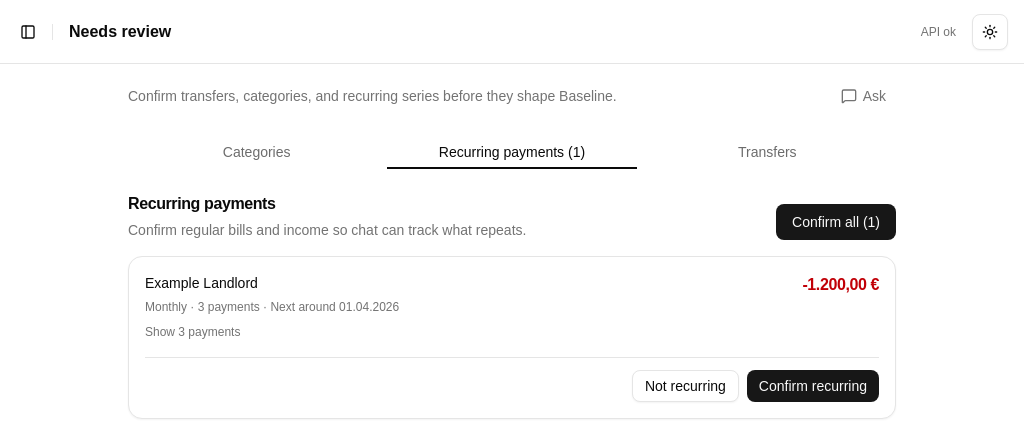
Test: Needs review inbox › confirms a recurring series and clears it from the queue
expect the heading "Recurring payments" is shown: met, box 128,195 -> 276,212
expect the button "Confirm all (1)" is shown: met, box 776,204 -> 896,240
Step 1. Click the button "Confirm recurring" → coordinates (813, 386), box 747,370 -> 879,402
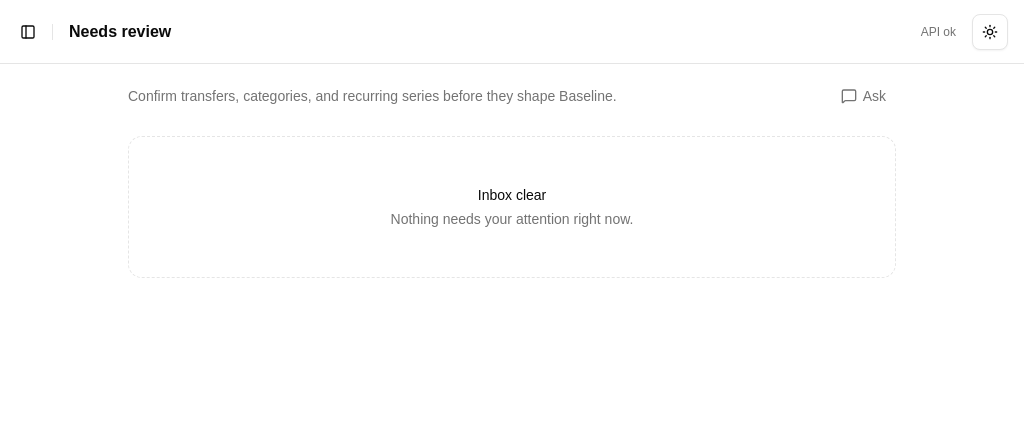
expect the text "Inbox clear" is shown: met, box 478,187 -> 546,203
